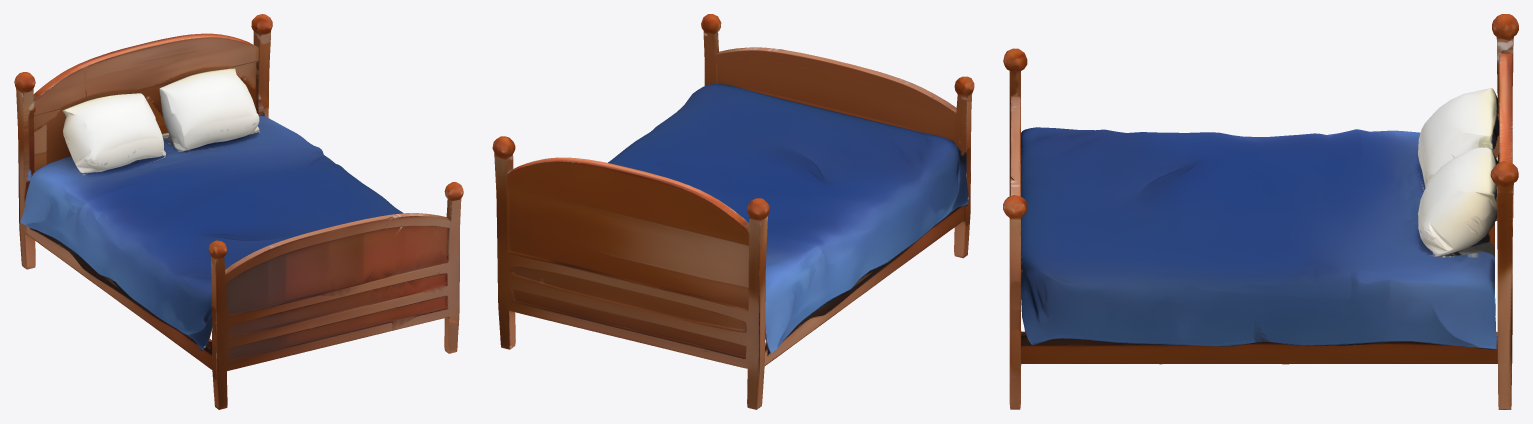
File: base_basic_shaded.glb
The picture shows the model from 3 angles, left to right: view 1: azimuth 30°, elevation 25°; view 2: azimuth 150°, elevation 25°; view 3: azimuth 270°, elevation 25°; orthographic projection. The views are drawn at different scales.
Visible parts, largest first — view 1: model; view 2: model; view 3: model.
Boxes of the visible parts, left/top/right/bottom form: model: left=14, top=14, right=463, bottom=409; model: left=492, top=14, right=974, bottom=409; model: left=1003, top=14, right=1518, bottom=409.
Bounding box in the file's own units: 1.34 × 0.975 × 1.84.
Materials: 1 (1 with a texture image).
